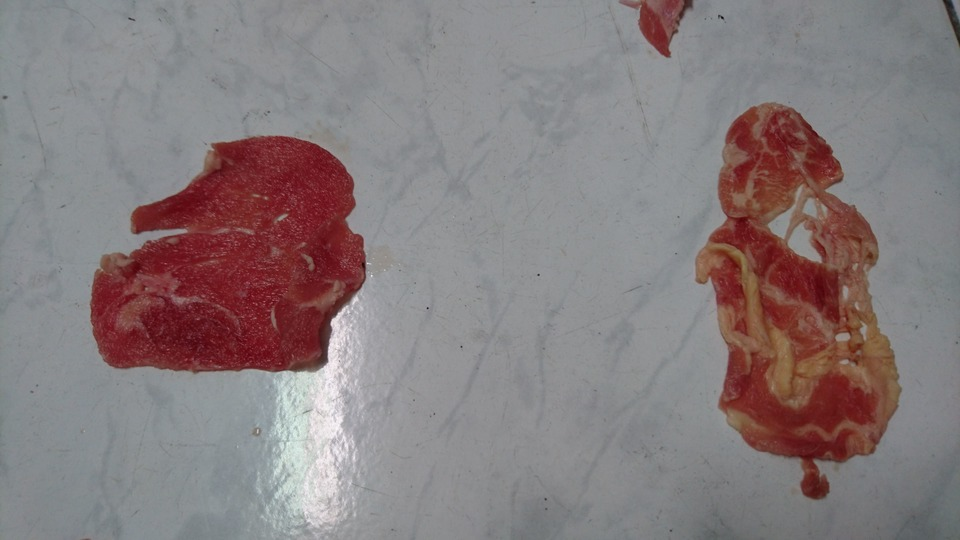restructured meat: (54, 124, 384, 403), (698, 76, 908, 487), (610, 8, 708, 57)
